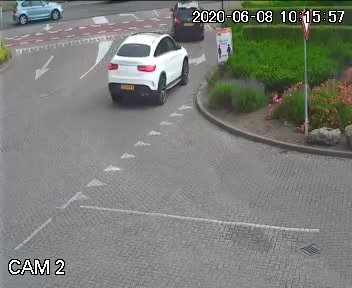car: (104, 29, 193, 124), (161, 0, 216, 49), (8, 0, 71, 24)
